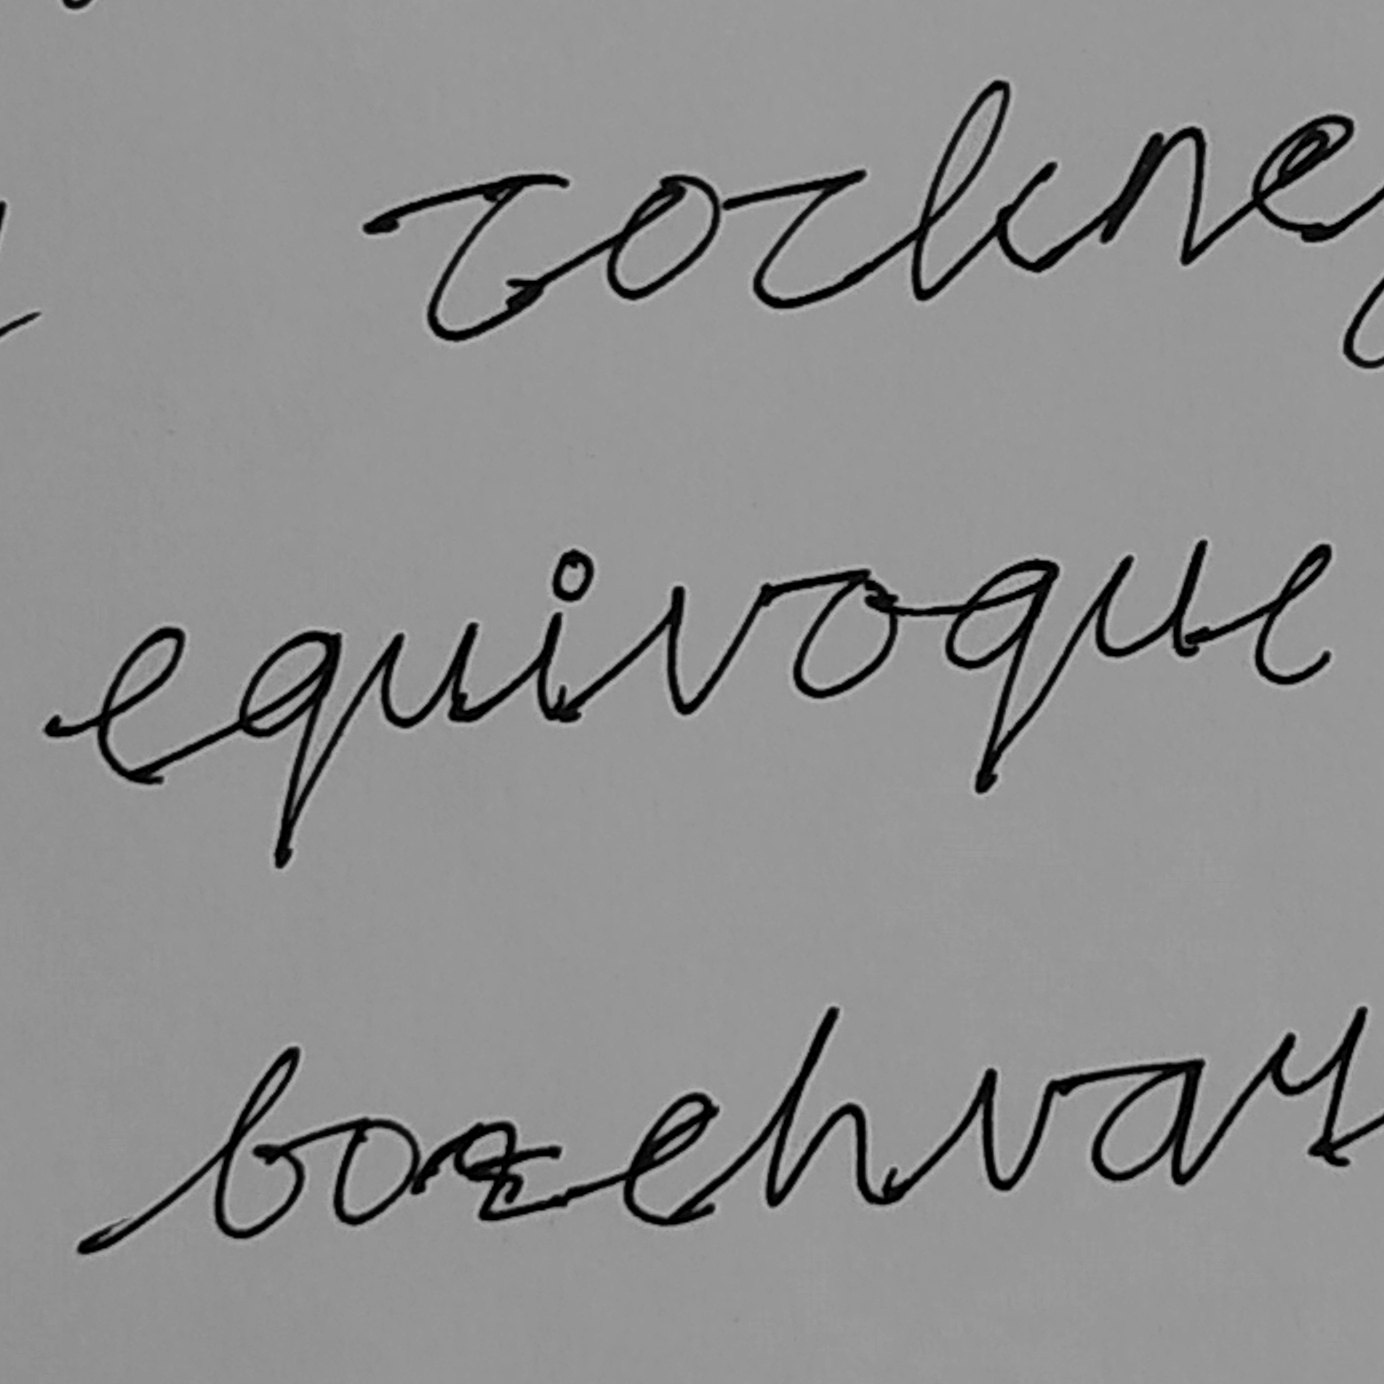e: (90, 622, 191, 790), (1248, 539, 1342, 688)
i: (530, 542, 596, 733)
o: (788, 561, 901, 705)
q: (938, 554, 1063, 800), (232, 624, 345, 873)
u: (1089, 534, 1213, 665), (375, 615, 485, 733)
v: (662, 572, 776, 722)
